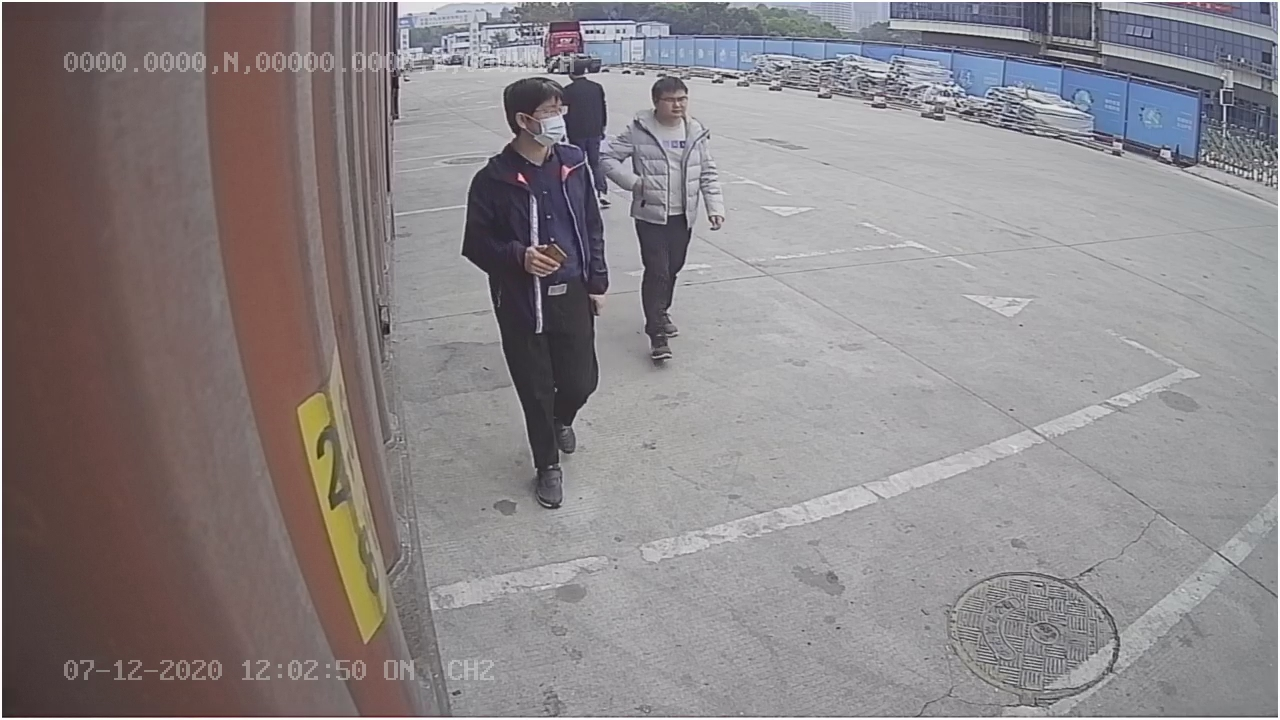person: (461, 77, 613, 505)
